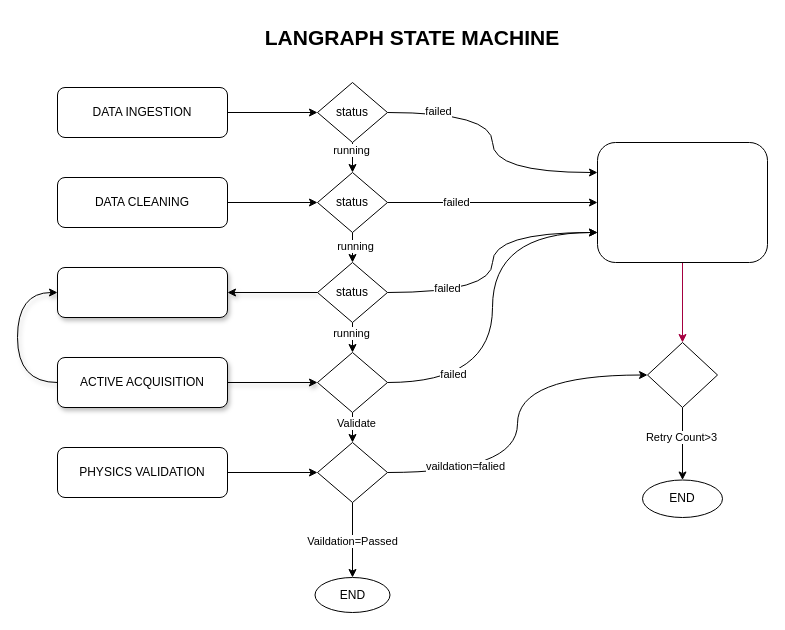
The diagram is 785 pixels wide and 630 high, and some of its shapes have lost their labels. The centre of each missing label's shape, as x and y in pixels:
"BAL check" goes at point 352,382.
"GPR Surrogate Fit" goes at point 143,293.
"Physics Gate" goes at point 352,472.
"Reset For Retry" goes at point 682,202.
"retries left" goes at point 682,375.
